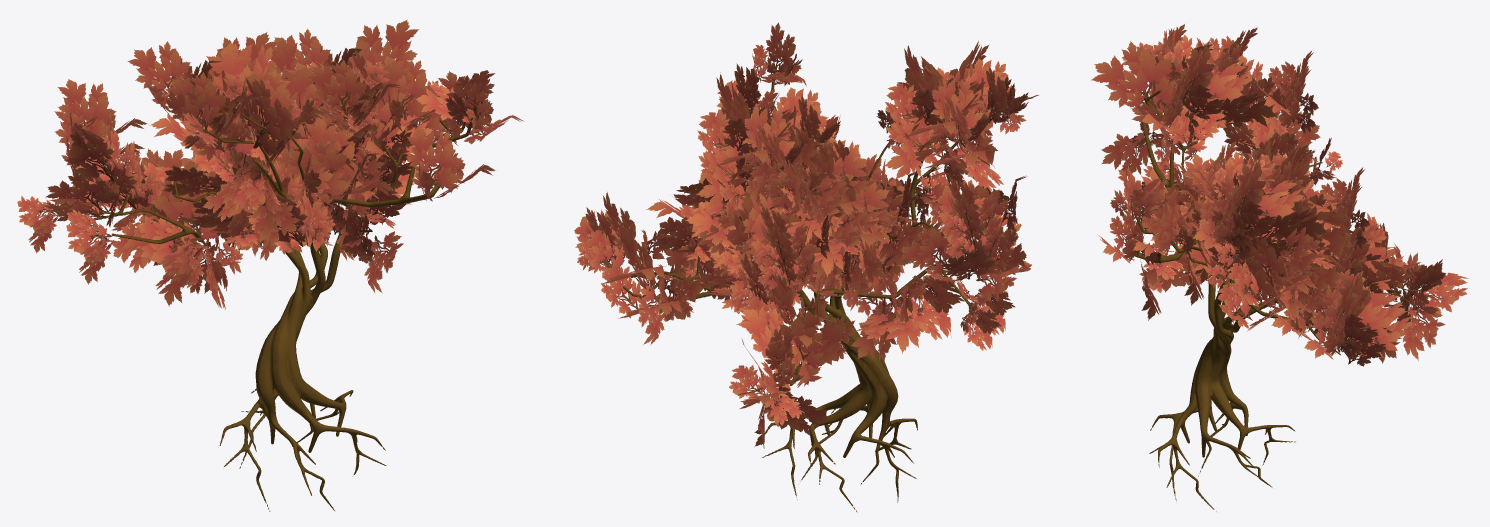
File: Tree_mesh.fbx
3 views of the same model, side by side, from view 1: azimuth 30°, elevation 25°; view 2: azimuth 150°, elevation 25°; view 3: azimuth 270°, elevation 25° (orthographic). The views are drawn at different scales.
Parts seen in each view (by area): view 1: Tree.001; view 2: Tree.001; view 3: Tree.001.
Part boxes in pixels (x1,y1,x2,y2): Tree.001: (17, 19, 524, 511); Tree.001: (574, 22, 1038, 512); Tree.001: (1091, 24, 1469, 511).
Size of the model in its own units: 4507 by 4572 by 3748.
